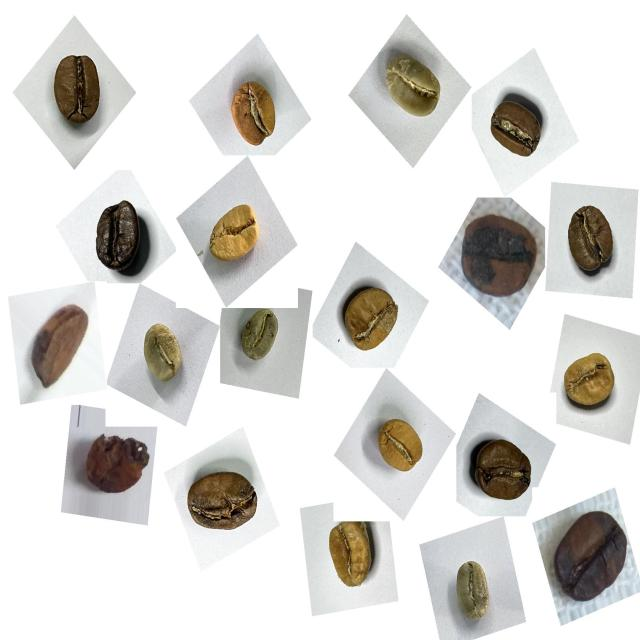bad: (541, 497, 634, 612), (453, 203, 543, 311), (23, 294, 98, 398), (79, 421, 158, 510)
dark: (81, 188, 157, 280)
green: (371, 44, 453, 136), (442, 550, 503, 633), (135, 314, 195, 396), (233, 307, 290, 373)
light: (335, 274, 409, 363), (198, 194, 267, 278), (554, 341, 624, 423), (218, 71, 285, 155), (316, 514, 382, 599), (364, 410, 430, 488)
medium: (178, 460, 266, 546), (555, 195, 627, 287), (41, 45, 112, 138), (463, 430, 540, 515), (482, 88, 552, 171)
